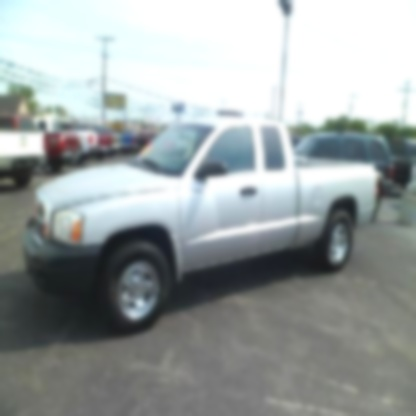Vehicle: (22, 116, 387, 336)
